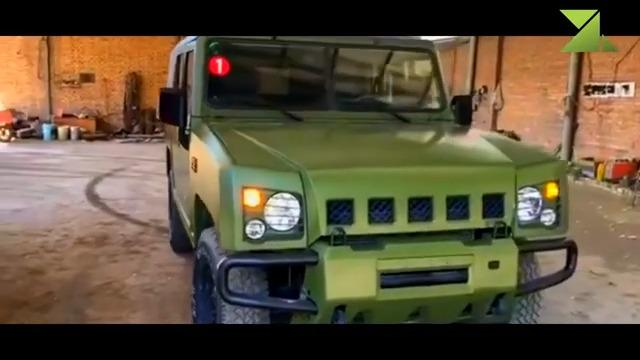MIL_HMMWV: (158, 36, 575, 324)
